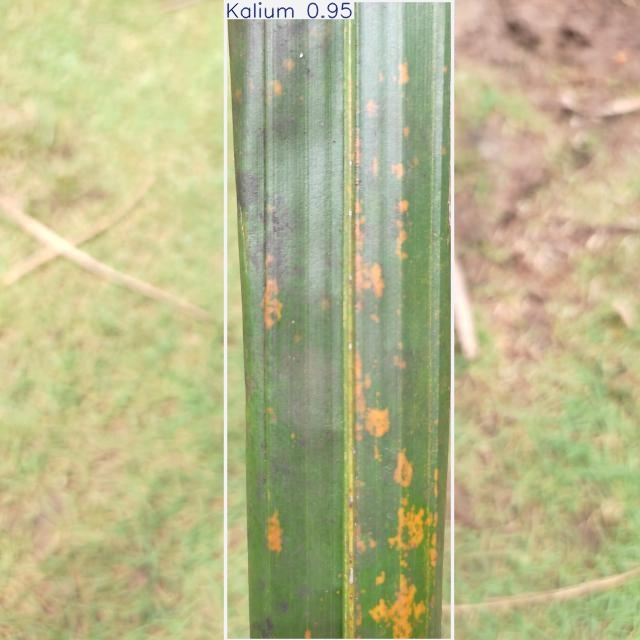Kalium: (225, 0, 453, 640)
